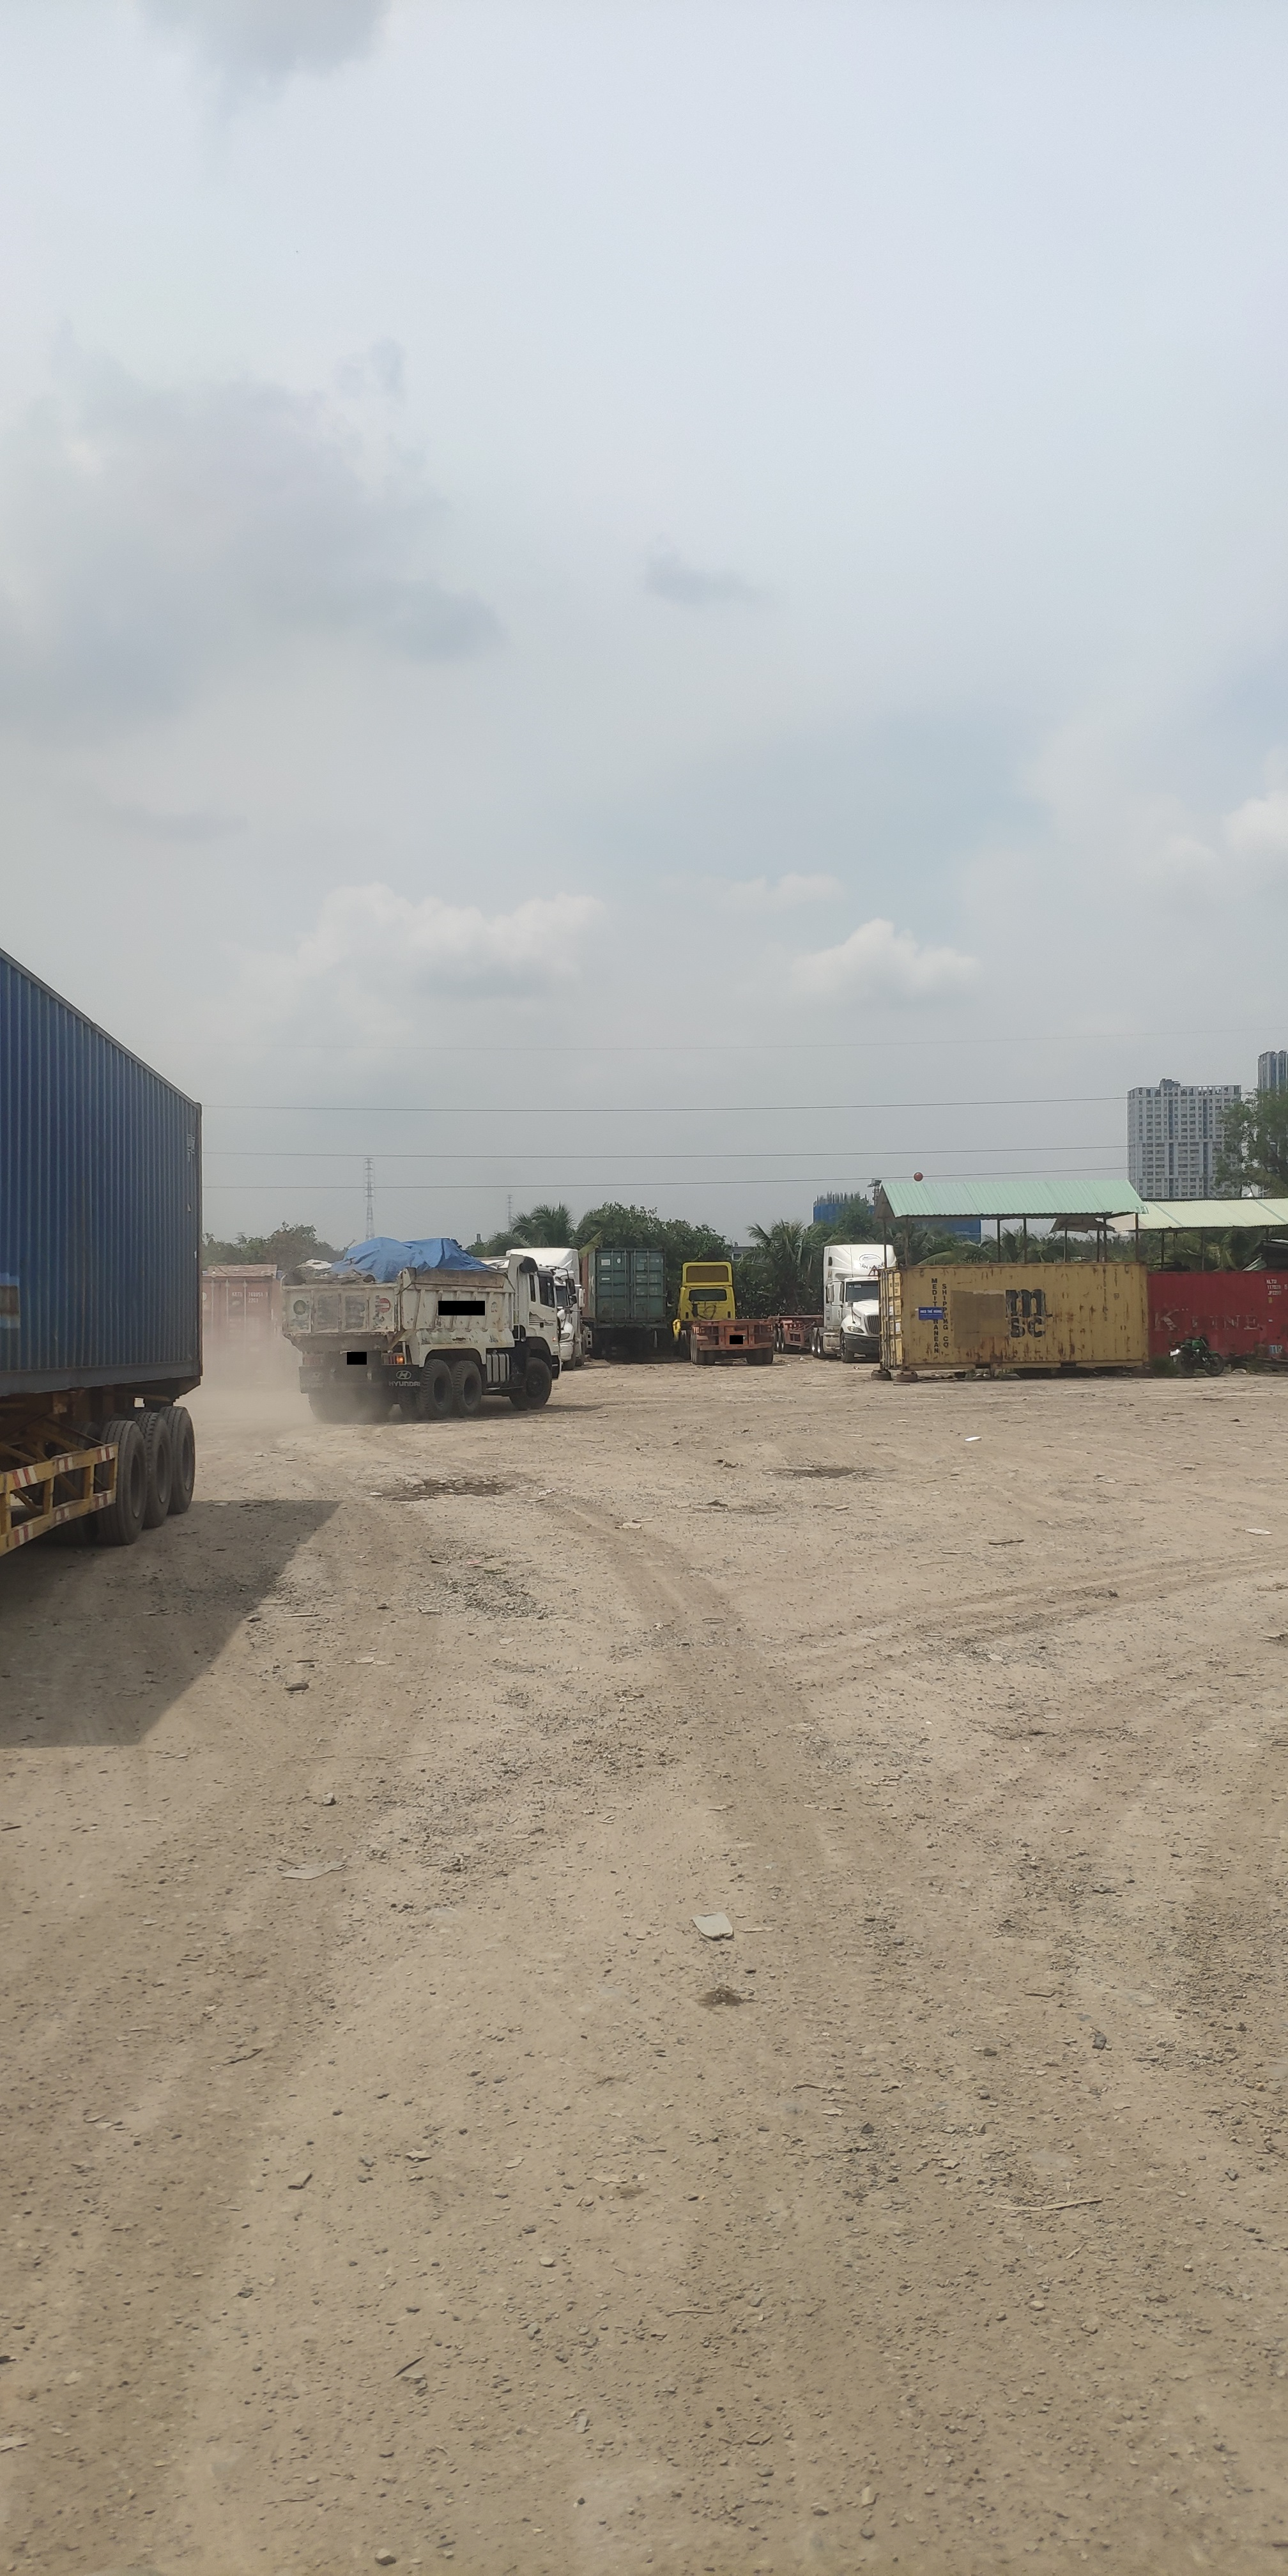hole: (391, 1561, 552, 1625), (371, 1469, 514, 1506), (787, 1457, 864, 1483)
